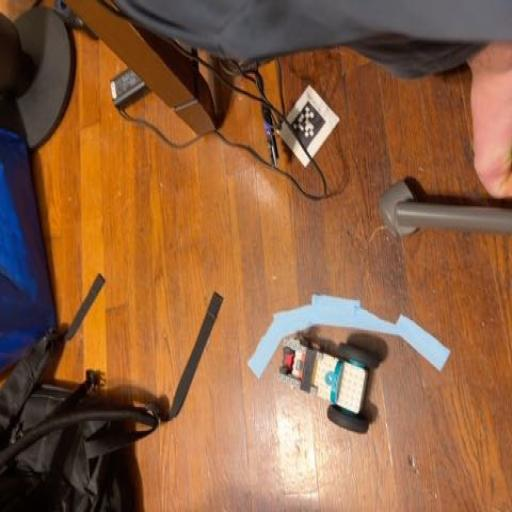Opponent: (272, 330, 386, 437)
